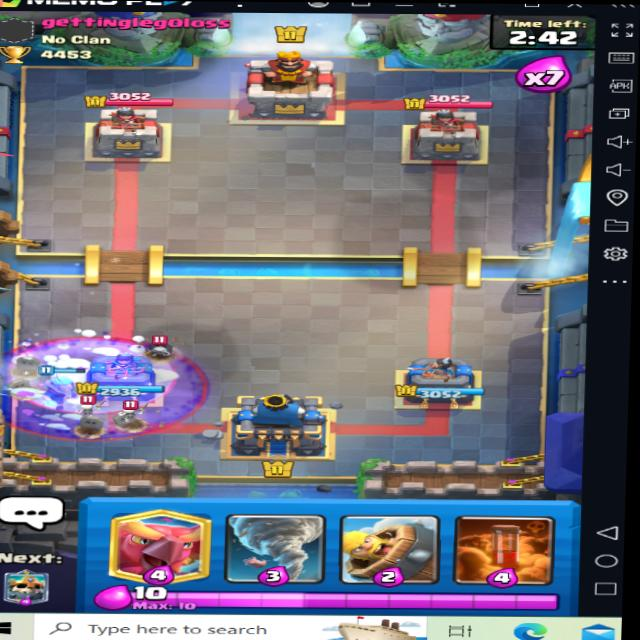freeze: (15, 334, 179, 414)
graveyard: (0, 322, 212, 445)
skeleton: (112, 400, 143, 421), (146, 336, 173, 357), (70, 399, 97, 419)
